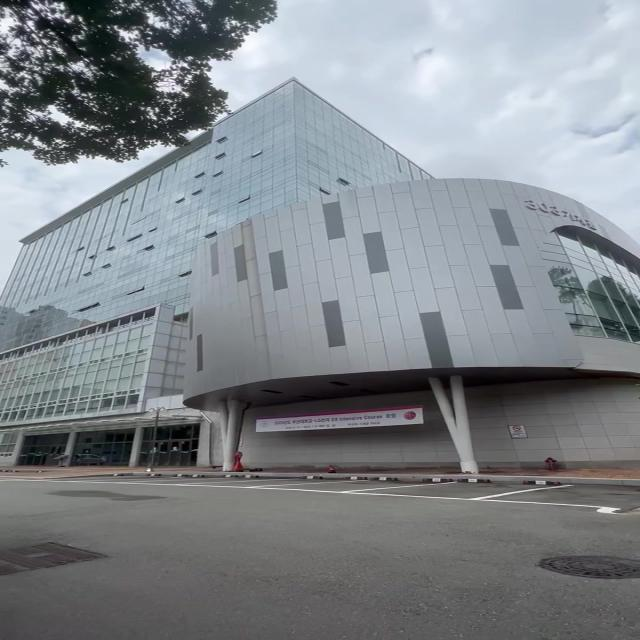building: (21, 179, 582, 400)
